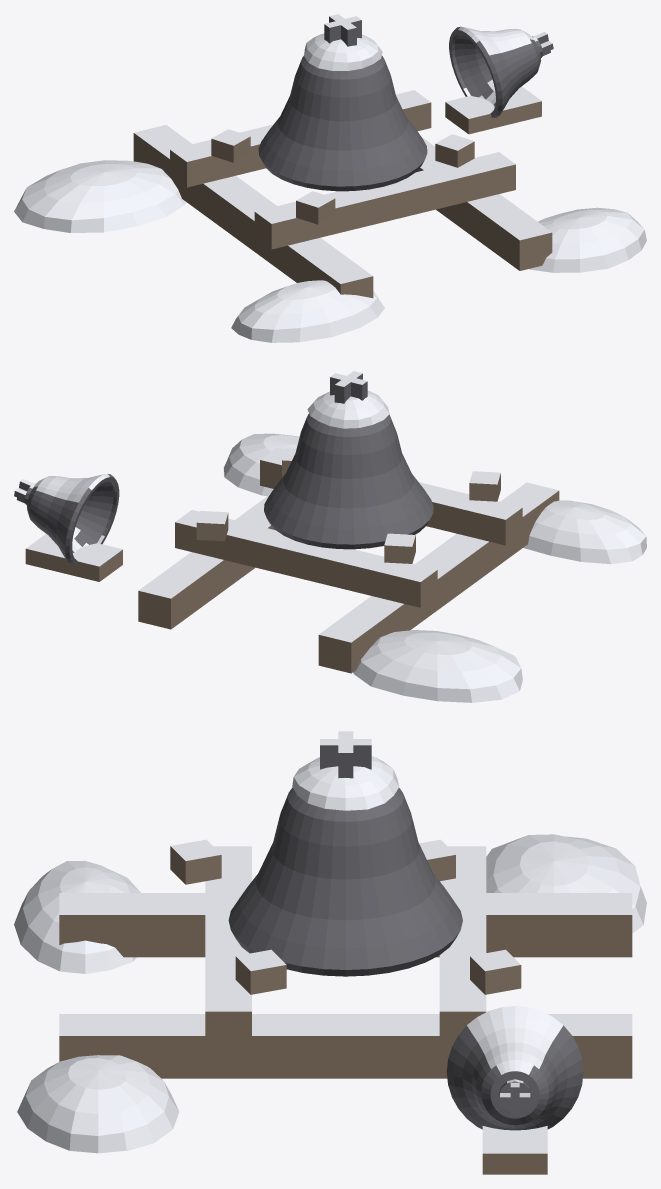
File: PR_Sino_Berco.fbx
3 views of the same model, one above another, from view 1: azimuth 30°, elevation 25°; view 2: azimuth 150°, elevation 25°; view 3: azimuth 270°, elevation 25° (orthographic). The views are drawn at different scales.
Parts seen in each view (by area): view 1: PR_Sino_Berco; view 2: PR_Sino_Berco; view 3: PR_Sino_Berco.
Part boxes in pixels (x1,y1,x2,y2): PR_Sino_Berco: [14, 14, 646, 342]; PR_Sino_Berco: [14, 371, 646, 702]; PR_Sino_Berco: [14, 731, 646, 1174].
Size of the model in its own units: 6.3 by 2.29 by 4.86.
